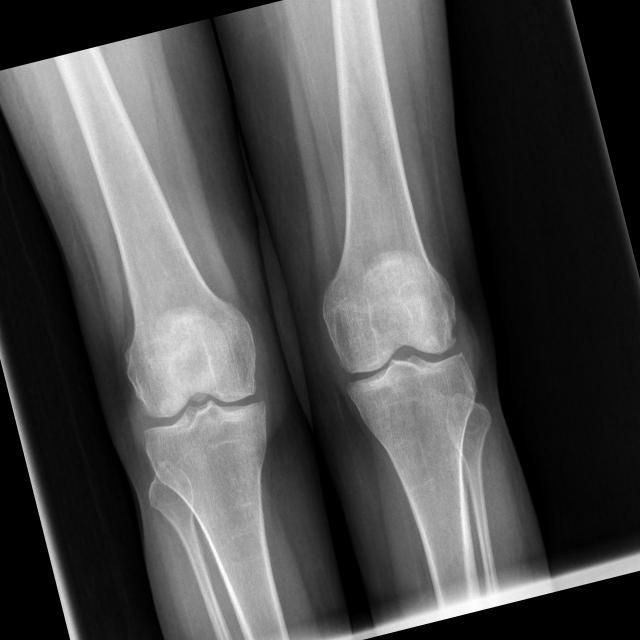Knee: (119, 332, 284, 490), (319, 283, 482, 436)
